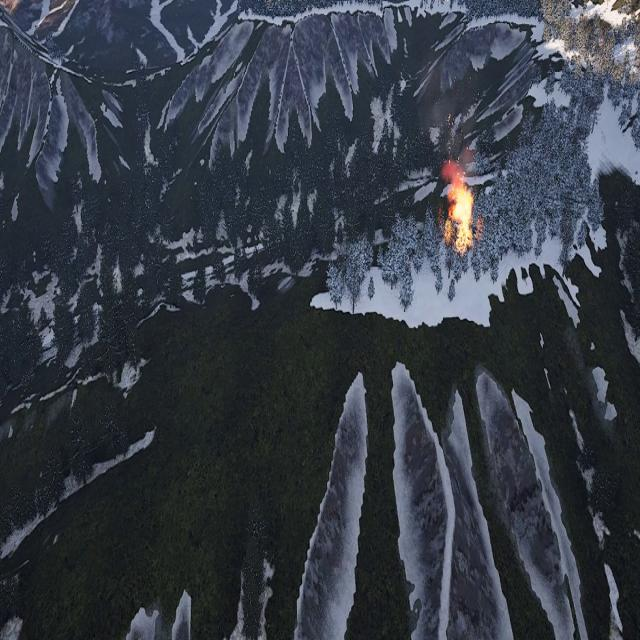fire: (442, 183, 483, 257)
smoke: (416, 47, 476, 183)
